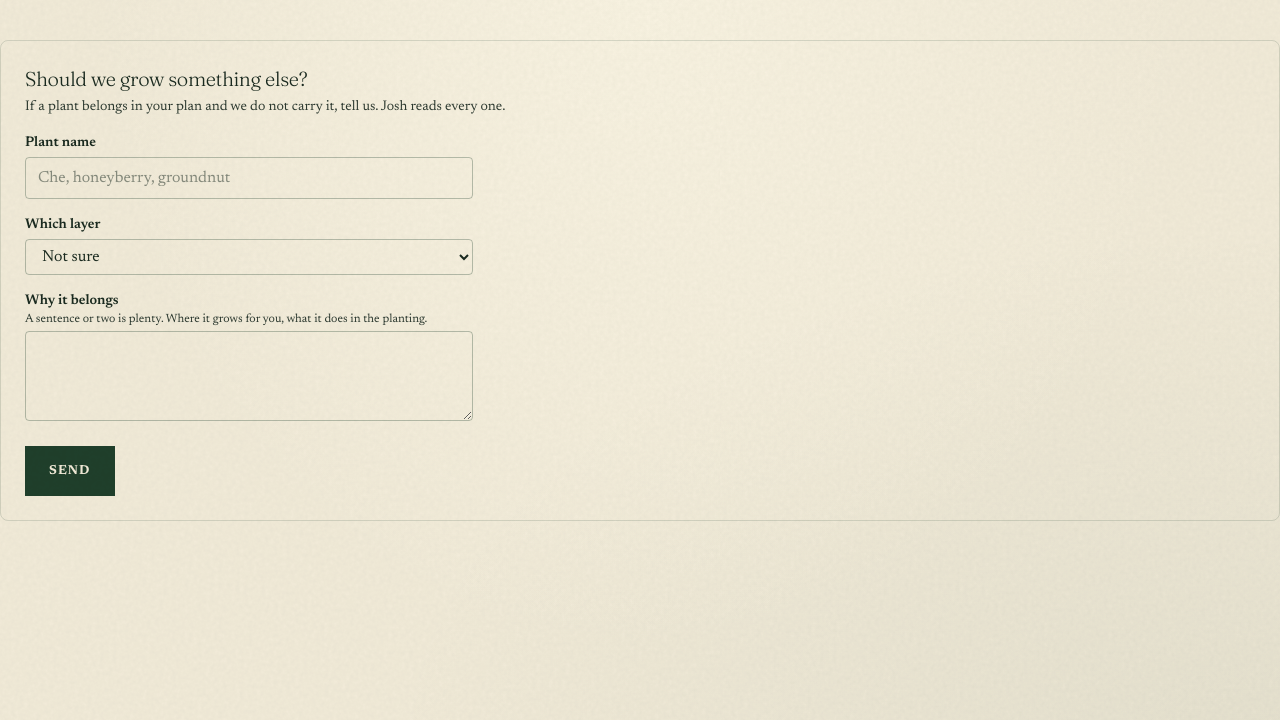
Test: ResultCard: winter beta (planner-winter-beta spec §C.1, §C.2, §C.3) › Suggest a plant validates the name inline, then sends and confirms where it goes
The image size is (1280, 720).
Click the button with test id "plan-suggest-send".
click(70, 471)  # box [25,446,114,496]
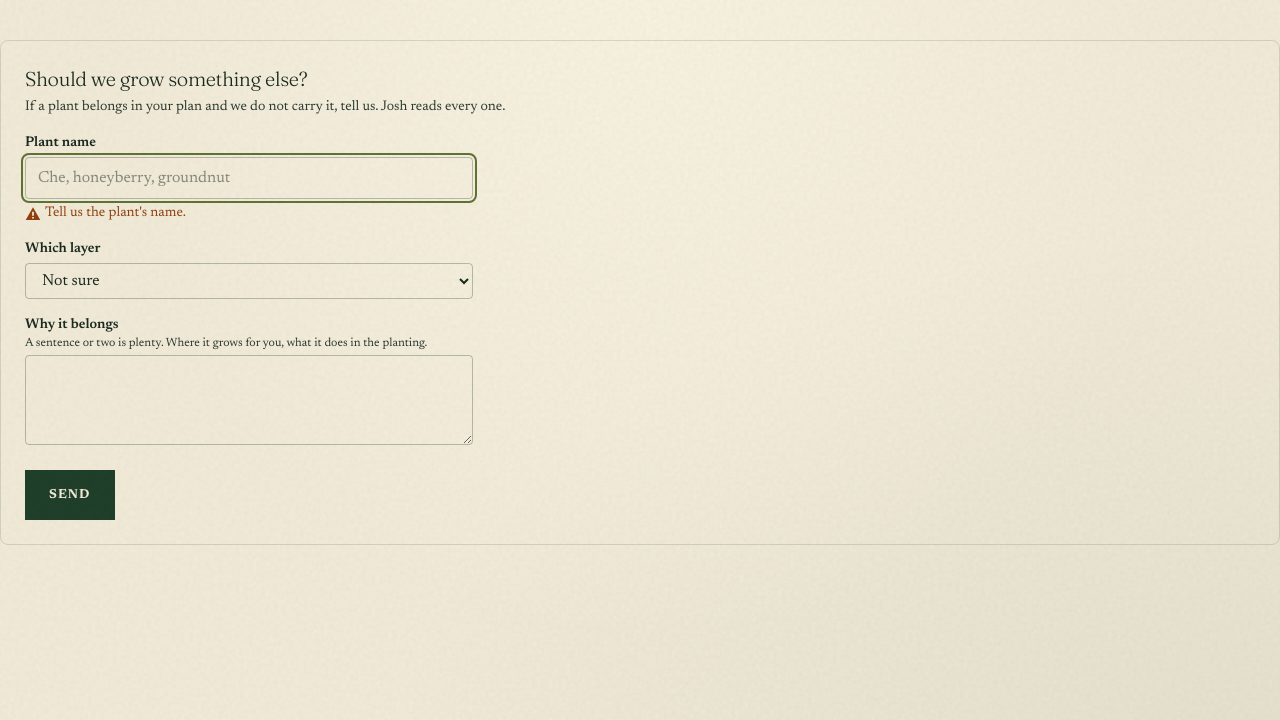
Expected: the text "Tell us the plant's name." is shown, [25,206,186,222]
Type "Che" into the field labelled "Plant name".
click(249, 178); type("Che")  # box [25,157,473,199]
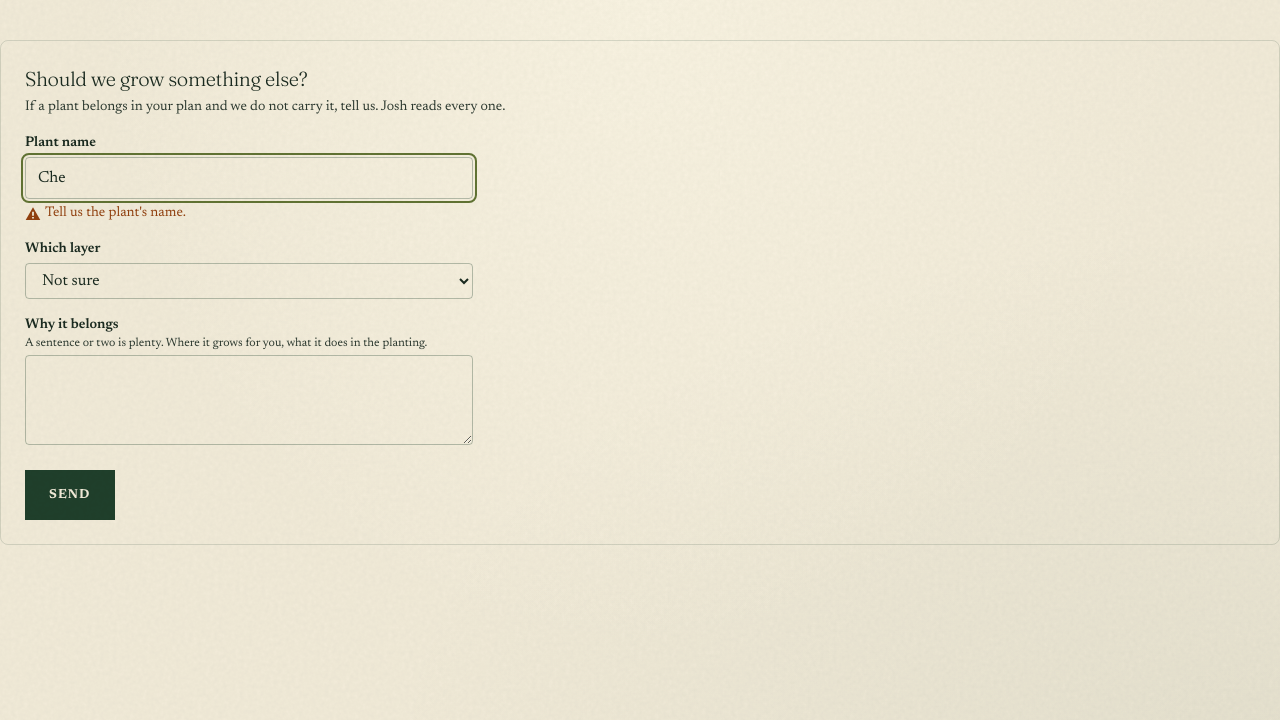
Select "Understory" in the dropdown labelled "Which layer" at (249, 281), box [25,263,473,299]
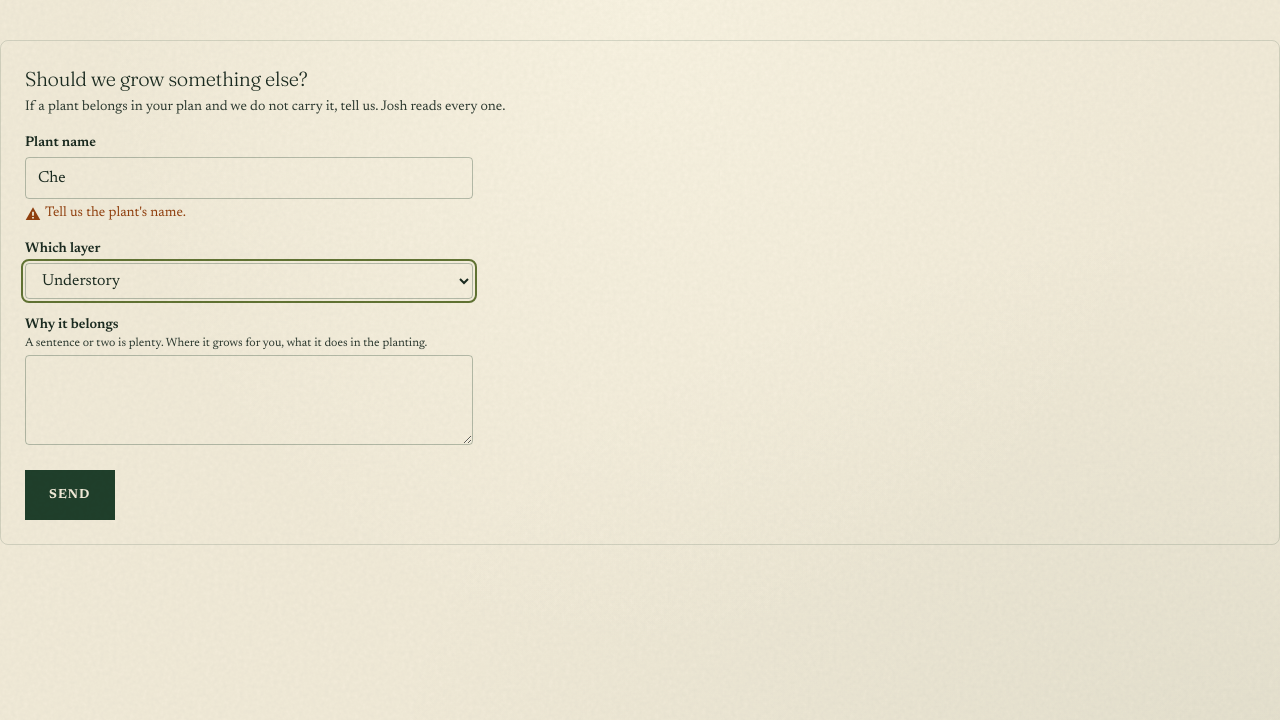
Type "Fruits for me in zone 6." into the text box labelled "Why it belongs".
click(249, 400); type("Fruits for me in zone 6.")  # box [25,355,473,445]
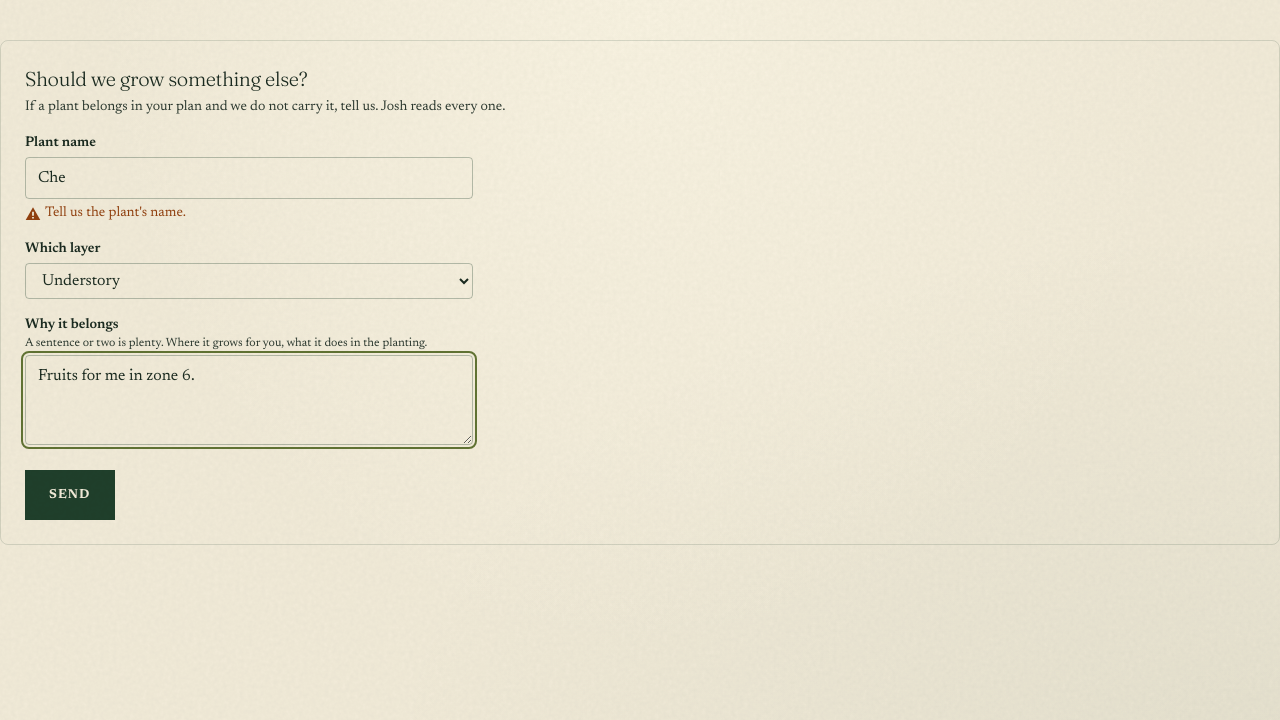
Click the button with test id "plan-suggest-send".
click(70, 495)  # box [25,470,114,520]
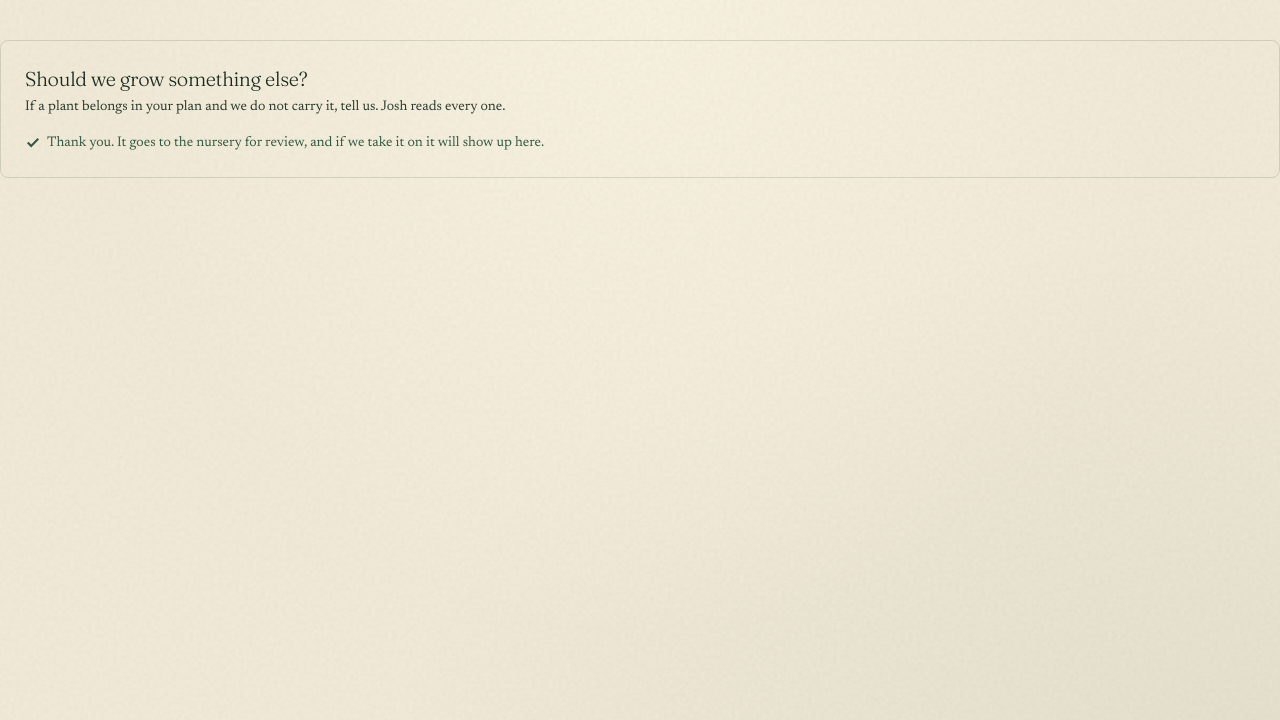
Expected: the text "goes to the nursery for review" is shown, [47,136,544,150]
